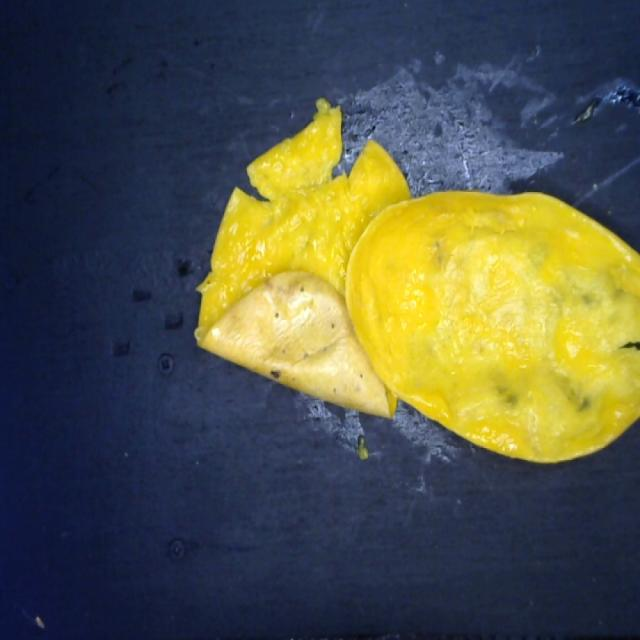biodegradable: (193, 96, 640, 463)
